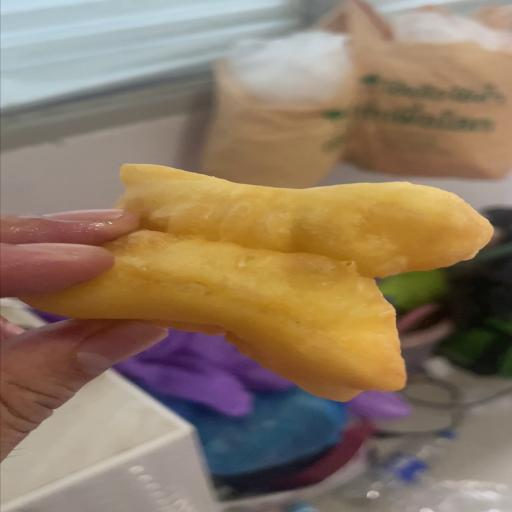street_golden_good: (12, 165, 493, 401)
